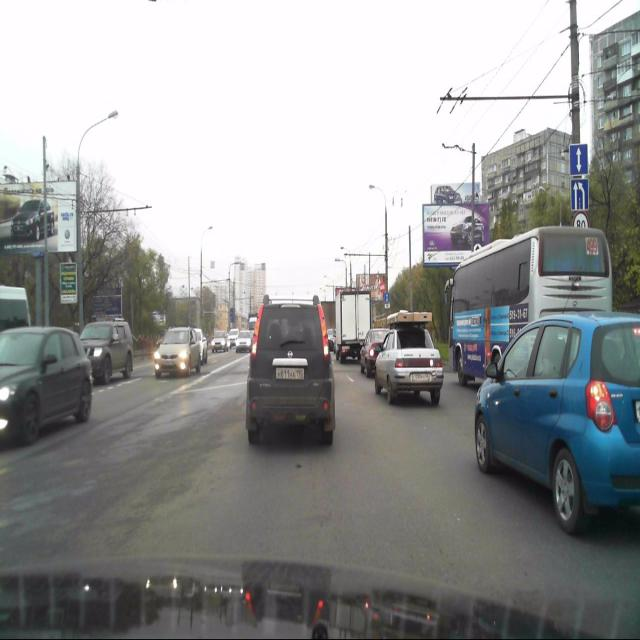road sign: (569, 143, 588, 175), (570, 179, 588, 212)
